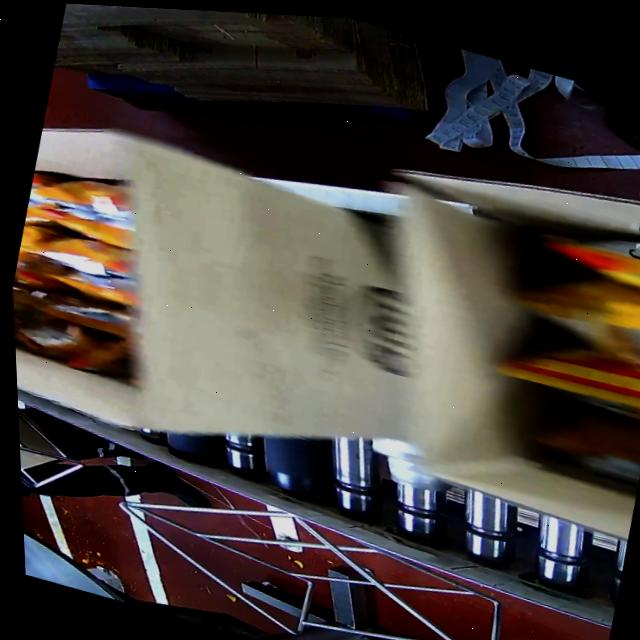FRENCH_CHEESE: (475, 198, 640, 504), (6, 143, 158, 389)
